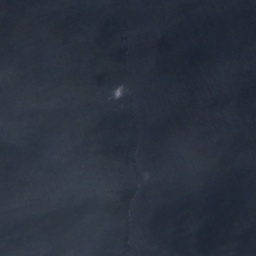Marine Debris: (127, 174, 148, 222)
